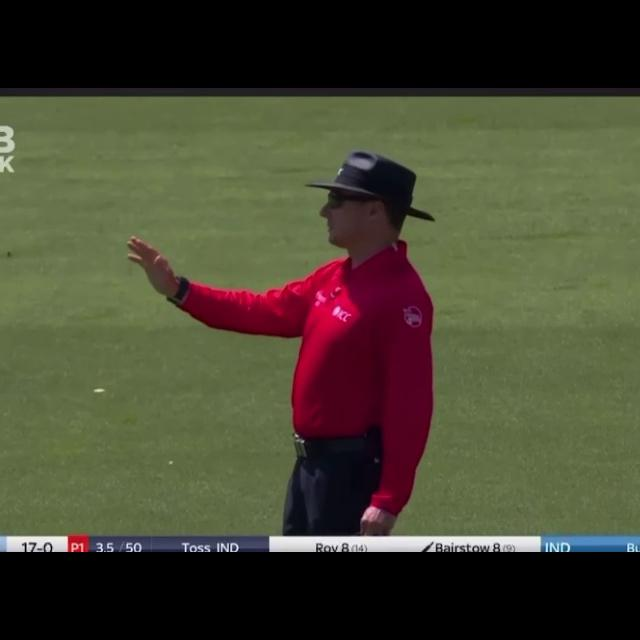umpire: (117, 134, 449, 539)
